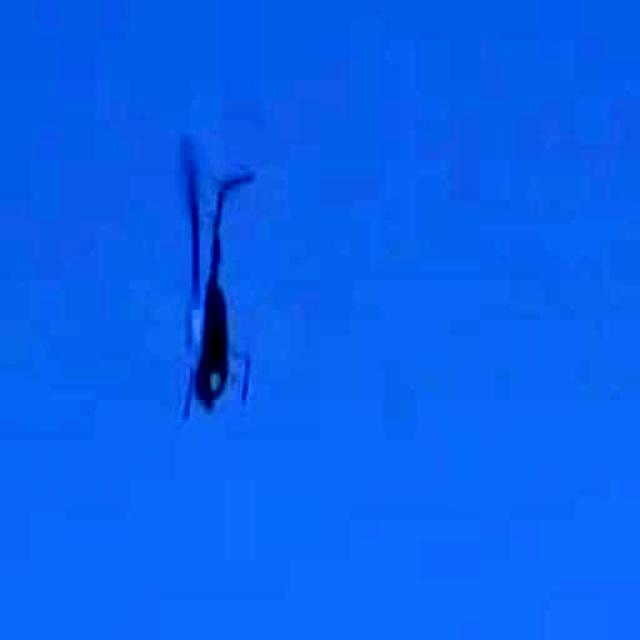drone: (95, 145, 318, 451)
